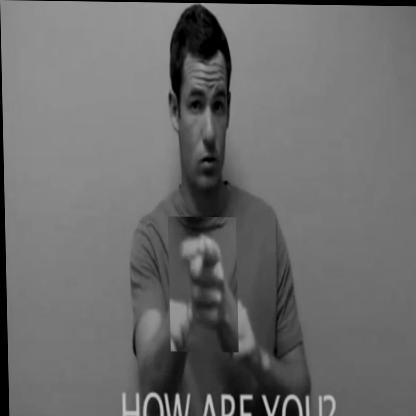HowAreYou: (167, 216, 238, 352)
